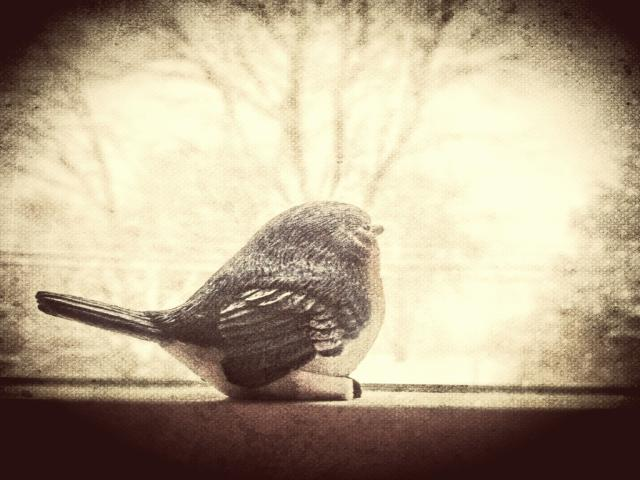Bird: (30, 198, 385, 400)
